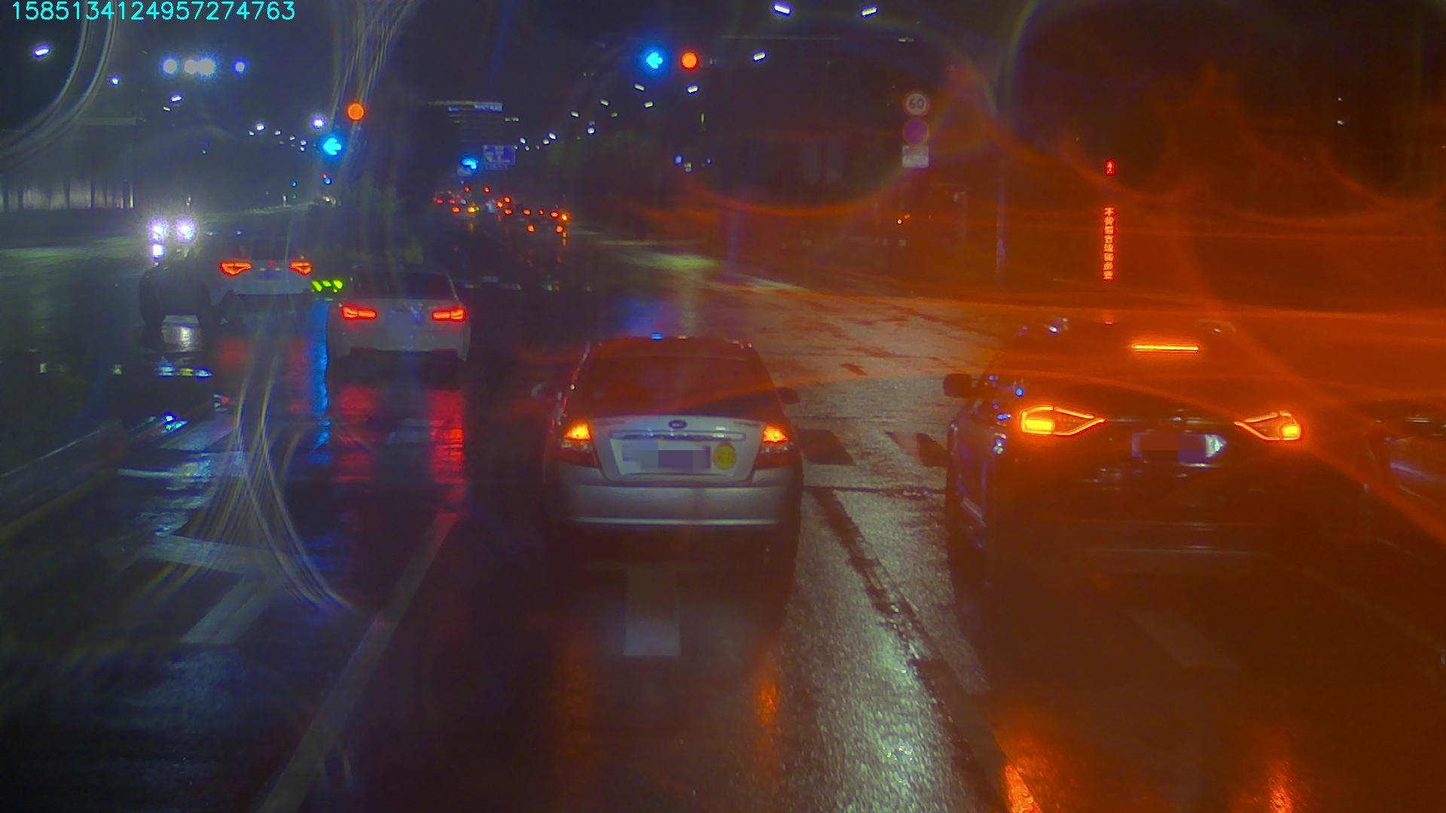green: (636, 47, 667, 80)
red: (676, 47, 698, 74)
